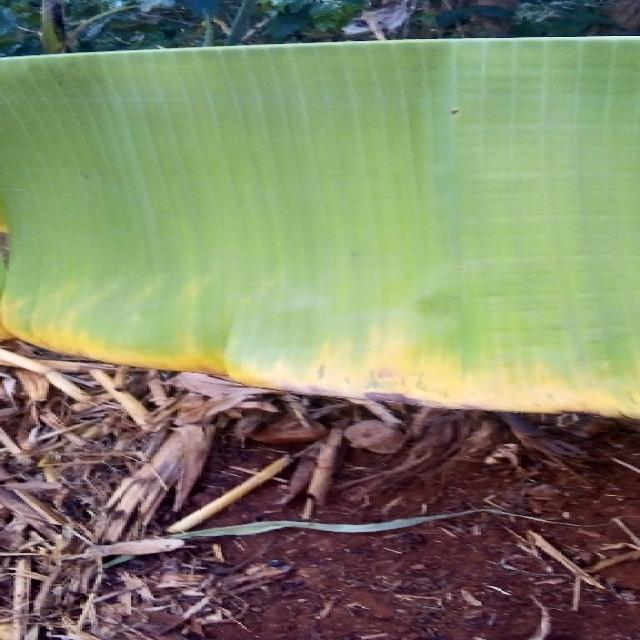Cordana: (2, 156, 640, 442)
